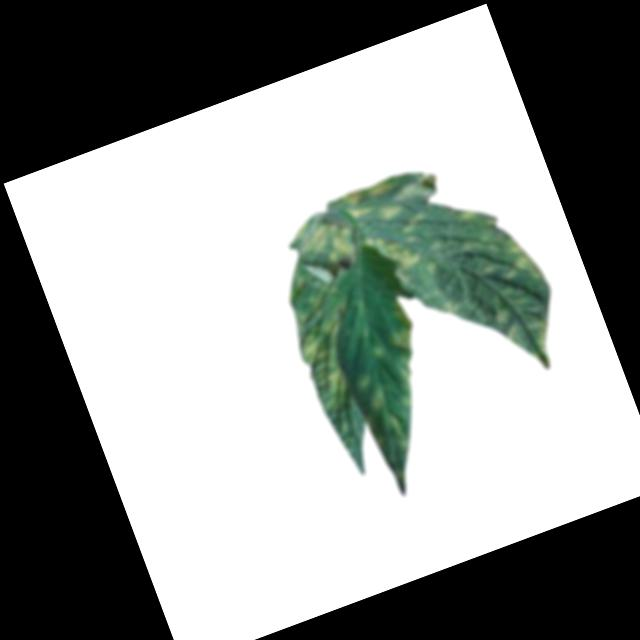Leaf_Mold: (254, 204, 403, 415), (341, 161, 467, 297), (456, 189, 546, 299), (377, 295, 423, 359), (359, 390, 388, 413)
